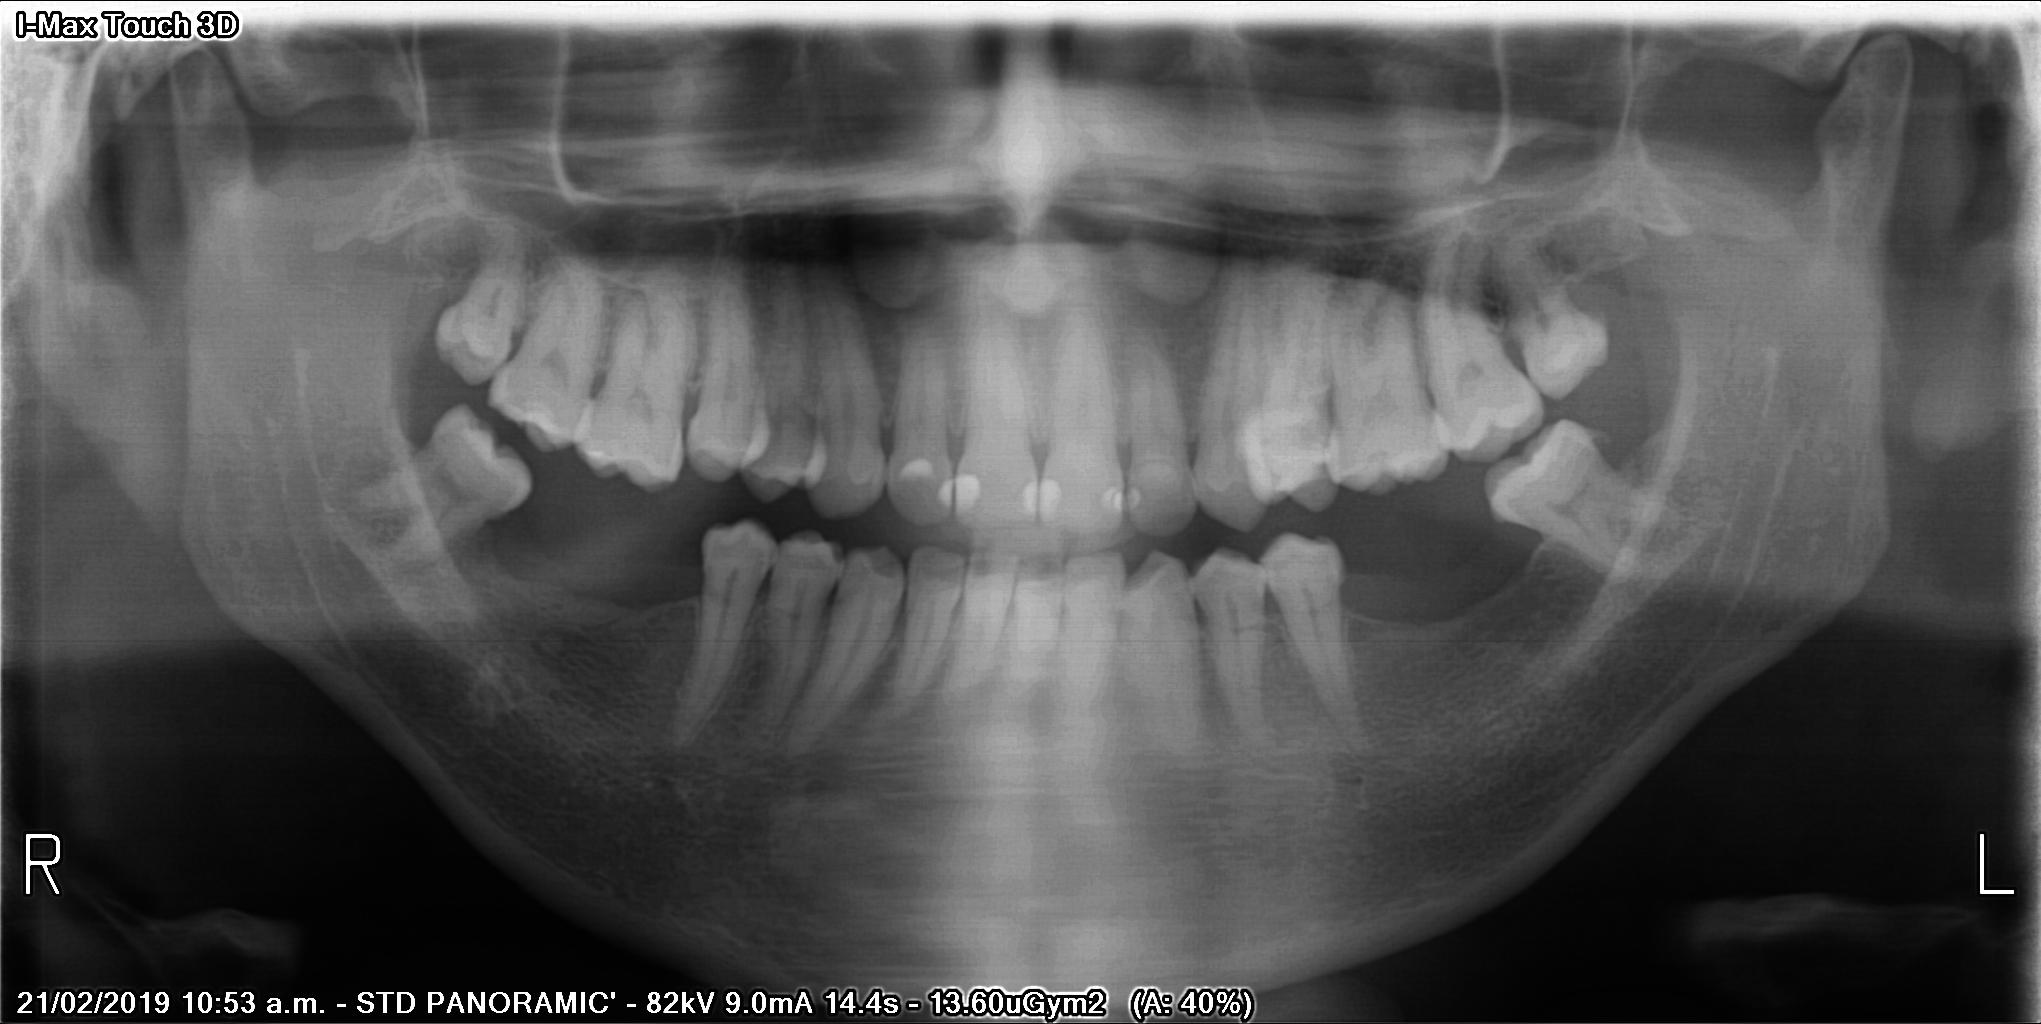Çürük: (1042, 477, 1063, 521), (958, 475, 983, 508), (938, 475, 951, 511), (1123, 494, 1140, 515), (1028, 481, 1036, 515), (1109, 488, 1119, 512)
